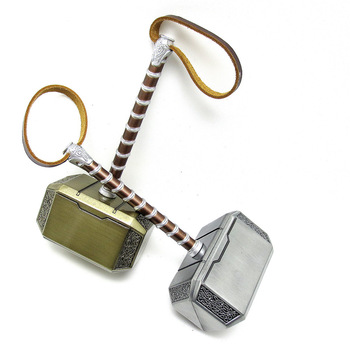THOR Hammer: (66, 140, 275, 329), (199, 201, 224, 216)
